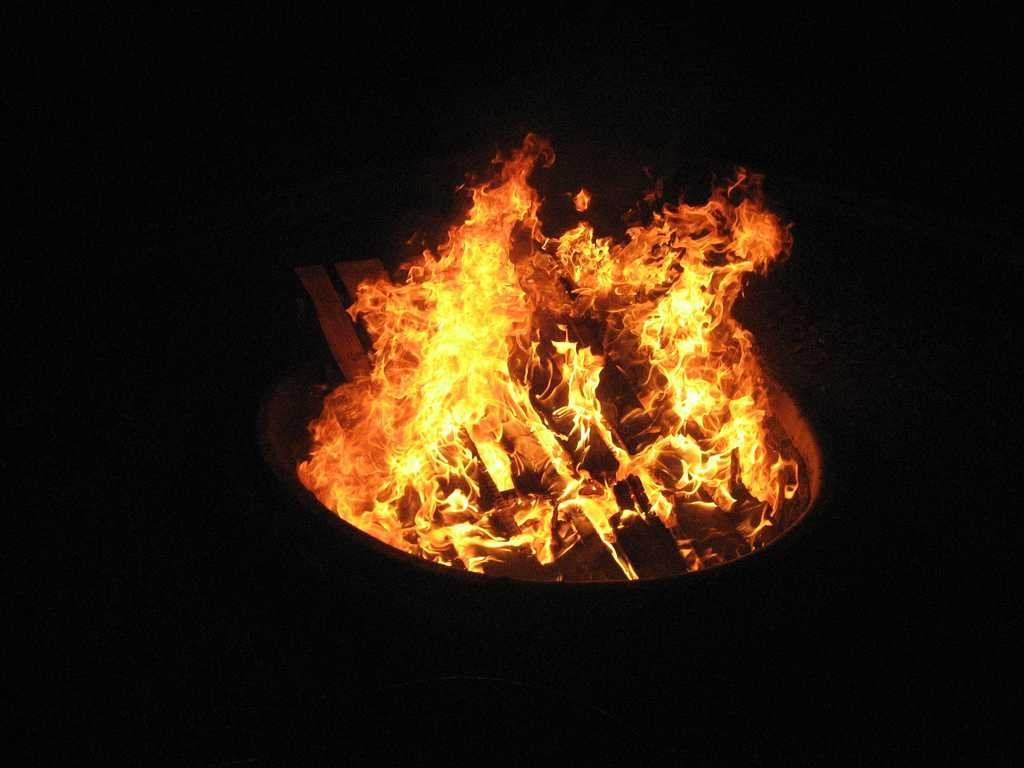fire: (373, 293, 513, 415), (660, 310, 743, 498), (330, 422, 450, 517)
